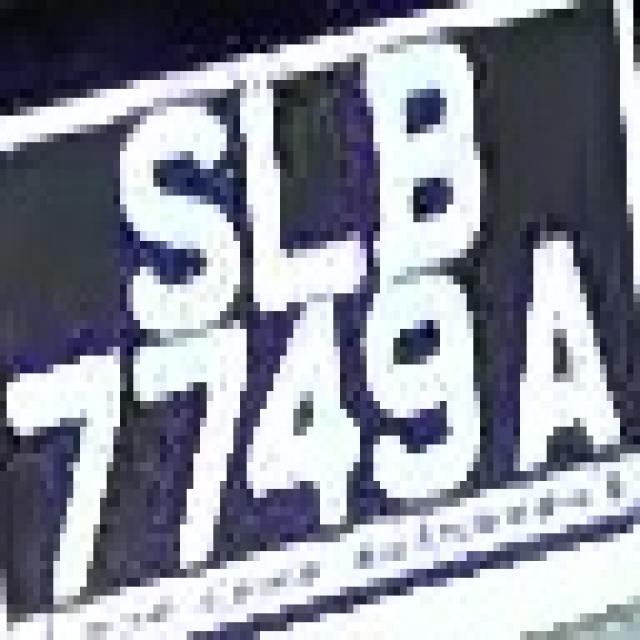4: (247, 267, 353, 551)
7: (140, 329, 247, 551), (0, 4, 2, 9)
9: (353, 249, 487, 533)
A: (493, 231, 620, 507)
B: (353, 18, 507, 276)
L: (233, 80, 367, 320)
S: (100, 62, 240, 302)
